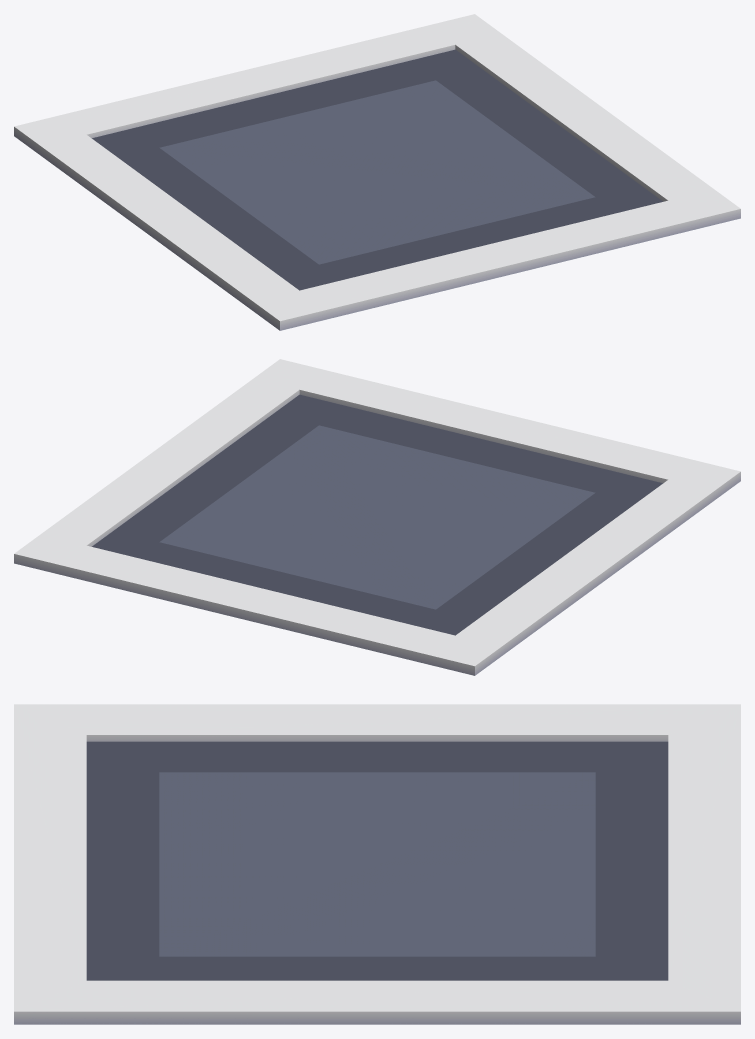
File: road-square.glb
3 renders of one model, top to bottom at view 1: azimuth 30°, elevation 25°; view 2: azimuth 150°, elevation 25°; view 3: azimuth 270°, elevation 25°, orthographic. The views are drawn at different scales.
Visible parts, largest first — view 1: road-square; view 2: road-square; view 3: road-square.
Boxes of the visible parts, left/top/right/bottom form: road-square: left=14, top=14, right=740, bottom=330; road-square: left=14, top=359, right=740, bottom=675; road-square: left=14, top=704, right=740, bottom=1024.
Bounding box in the file's own units: 1 × 0.02 × 1.
1 material, 1 textured.
